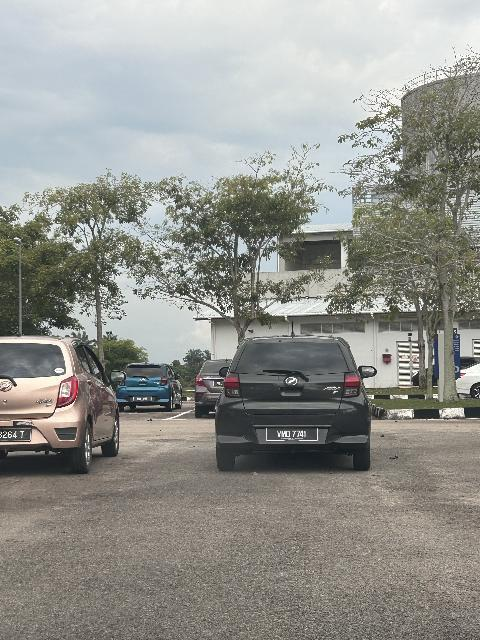License_Plate: (268, 426, 321, 444), (133, 397, 154, 405)
VMD7741: (268, 426, 321, 444)
car: (214, 333, 382, 471), (1, 332, 129, 473)
